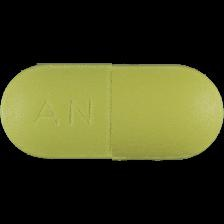55289-844: (0, 0, 224, 224)
